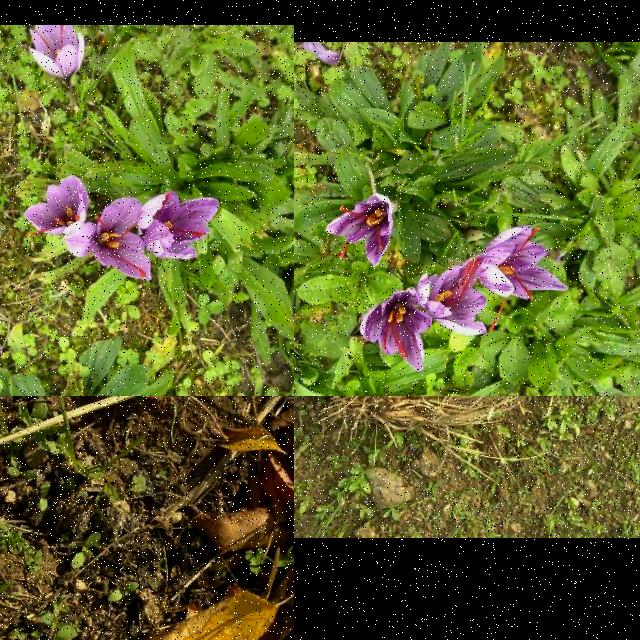flower: (478, 225, 568, 333), (66, 198, 150, 280), (136, 192, 220, 260), (418, 254, 487, 336), (362, 293, 432, 372), (326, 194, 392, 268), (24, 175, 92, 237), (28, 26, 86, 84)
